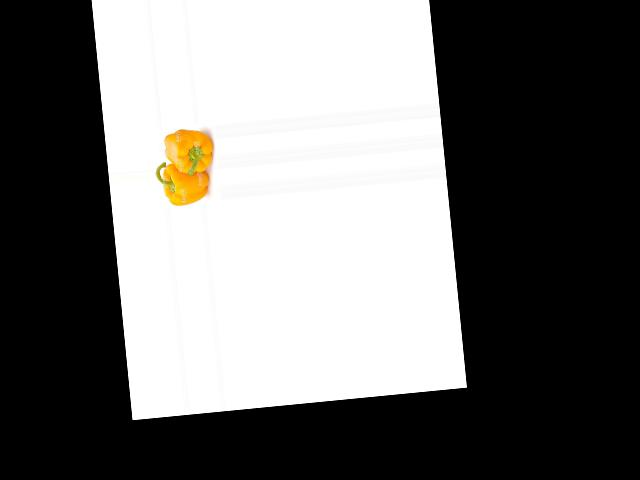bell_pepper: (156, 156, 211, 208)
